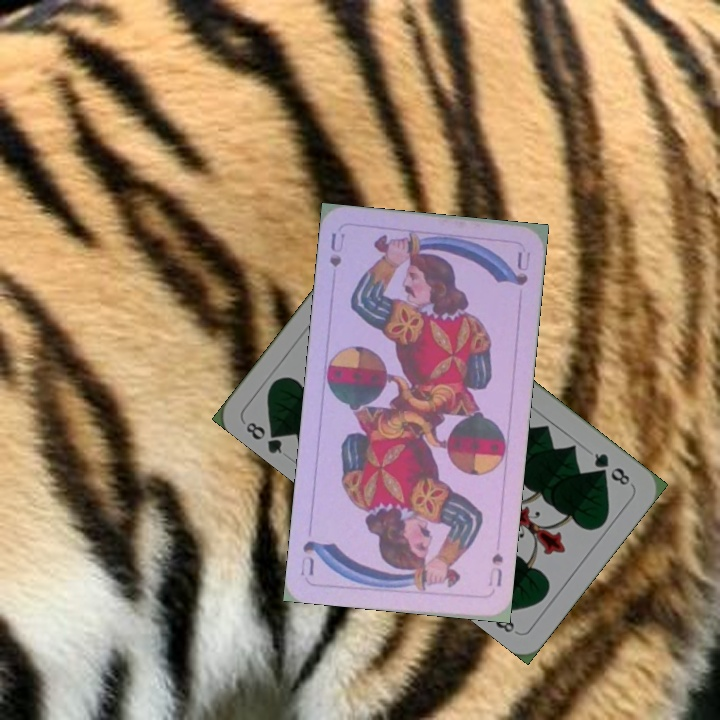G8: (241, 417, 288, 457), (590, 448, 633, 488)
SU: (326, 229, 348, 270), (484, 549, 506, 590)
